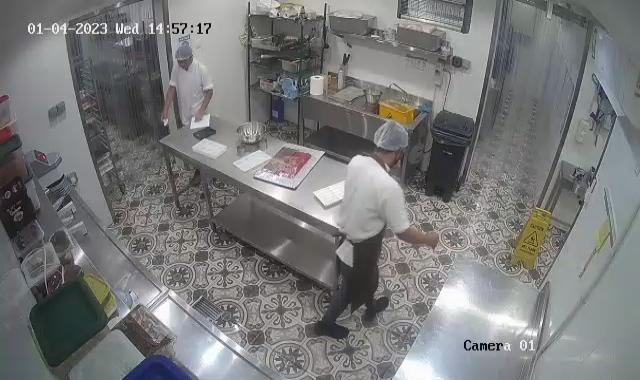hairnet: (373, 121, 413, 151), (174, 44, 196, 63)
